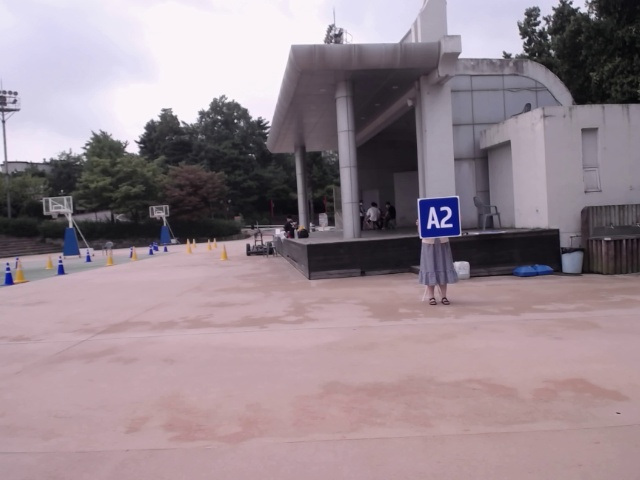delivery_a2: (418, 196, 461, 239)
